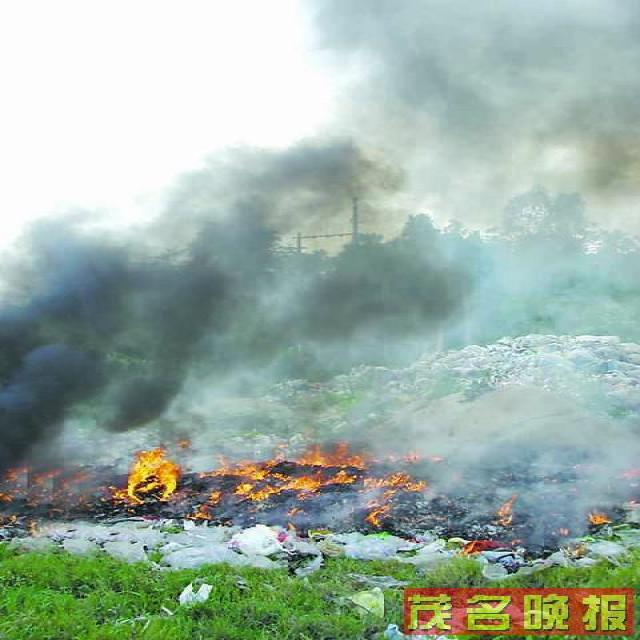fire: (110, 438, 434, 530), (478, 496, 554, 552), (578, 499, 619, 534)
other: (399, 574, 633, 632)
smoke: (324, 5, 637, 210), (17, 230, 228, 442), (185, 144, 377, 234), (307, 251, 465, 330)
